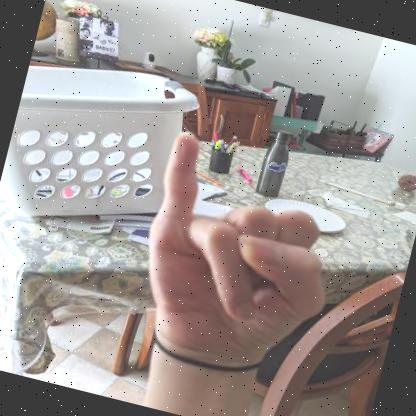I: (148, 132, 346, 368)
